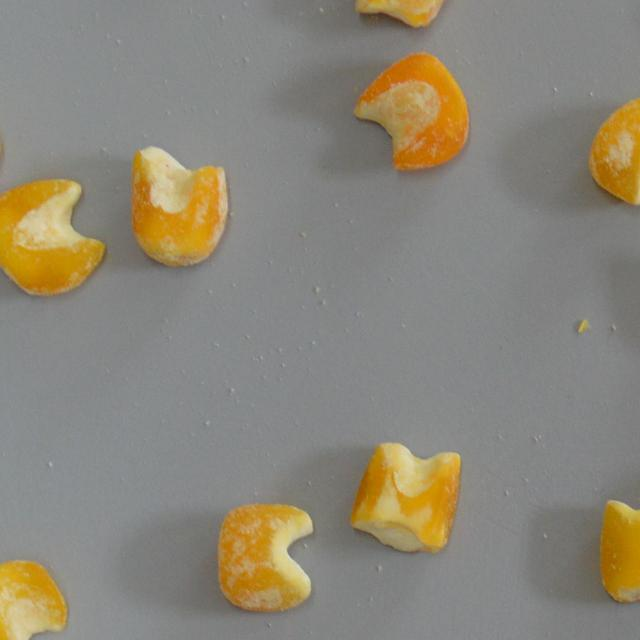dañado: (350, 46, 473, 176), (346, 437, 464, 562), (0, 178, 108, 301), (584, 89, 640, 208), (0, 556, 72, 640), (598, 484, 640, 606), (352, 0, 466, 31)
pelicula: (211, 494, 322, 614)
punto_negro: (128, 142, 232, 270)
